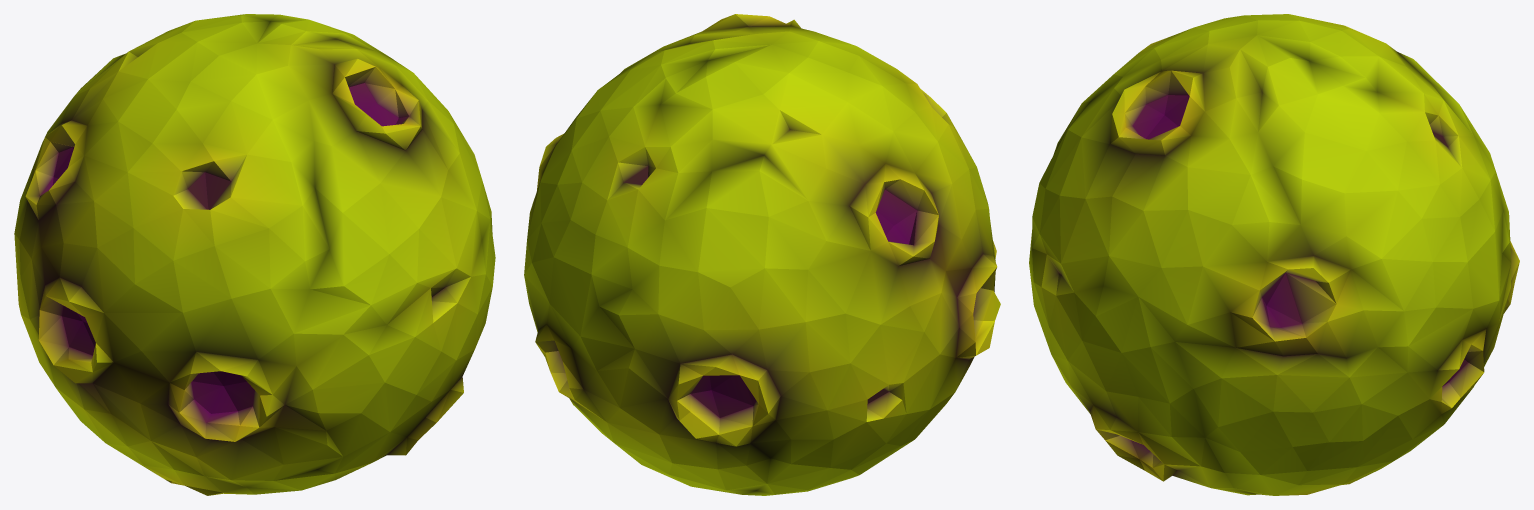
File: moon4.fbx
3 views of the same model, side by side, from view 1: azimuth 30°, elevation 25°; view 2: azimuth 150°, elevation 25°; view 3: azimuth 270°, elevation 25° (orthographic). The views are drawn at different scales.
Visible parts, largest first — view 1: attribblur1; view 2: attribblur1; view 3: attribblur1.
Boxes of the visible parts, left/top/right/bottom form: attribblur1: left=14, top=14, right=495, bottom=495; attribblur1: left=524, top=14, right=1000, bottom=495; attribblur1: left=1029, top=14, right=1519, bottom=495.
Bounding box in the file's own units: 0.8317 × 0.7978 × 0.8144.
